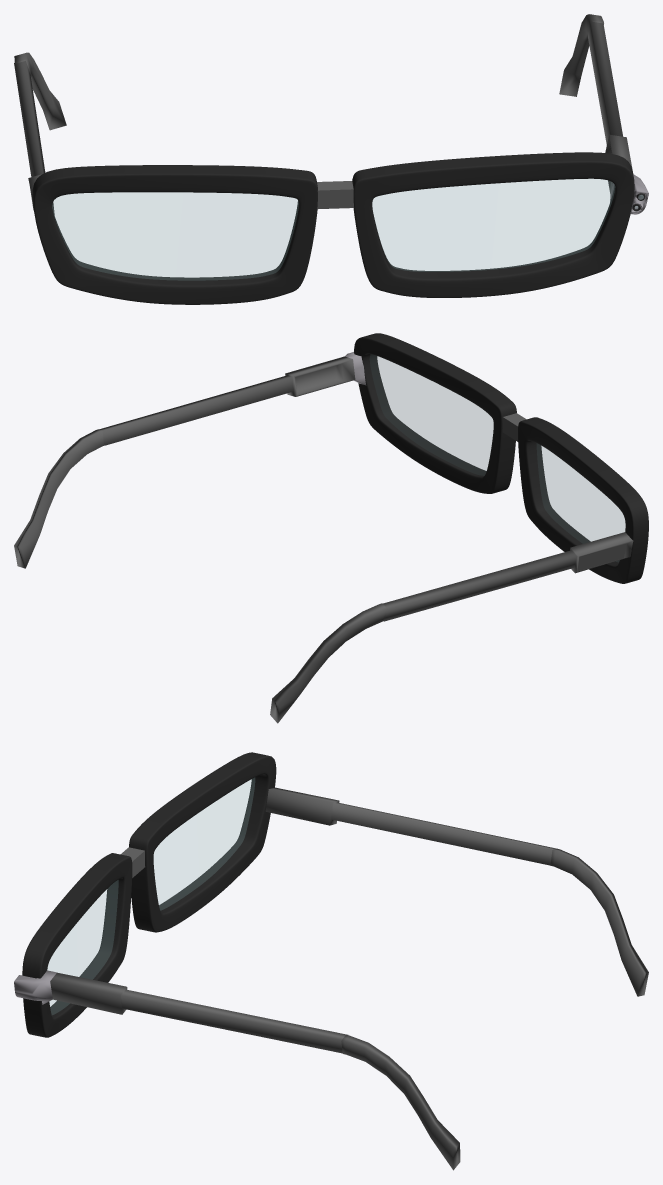
Rendered from lentes.gltf.
3 views of the same model, one above another, from view 1: azimuth 30°, elevation 25°; view 2: azimuth 150°, elevation 25°; view 3: azimuth 270°, elevation 25° (orthographic). The views are drawn at different scales.
Visible parts, largest first — view 1: Cube.003; view 2: Cube.003; view 3: Cube.003.
Part boxes in pixels (x1,y1,x2,y2): Cube.003: [14, 14, 648, 304]; Cube.003: [14, 333, 648, 723]; Cube.003: [14, 752, 648, 1170].
Size of the model in its own units: 8.08 by 2.03 by 7.57.
